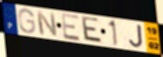1: (107, 20, 119, 47)
E: (82, 16, 104, 46), (60, 12, 82, 42)
G: (17, 8, 37, 35)
J: (128, 25, 144, 49)
N: (35, 10, 59, 38)
